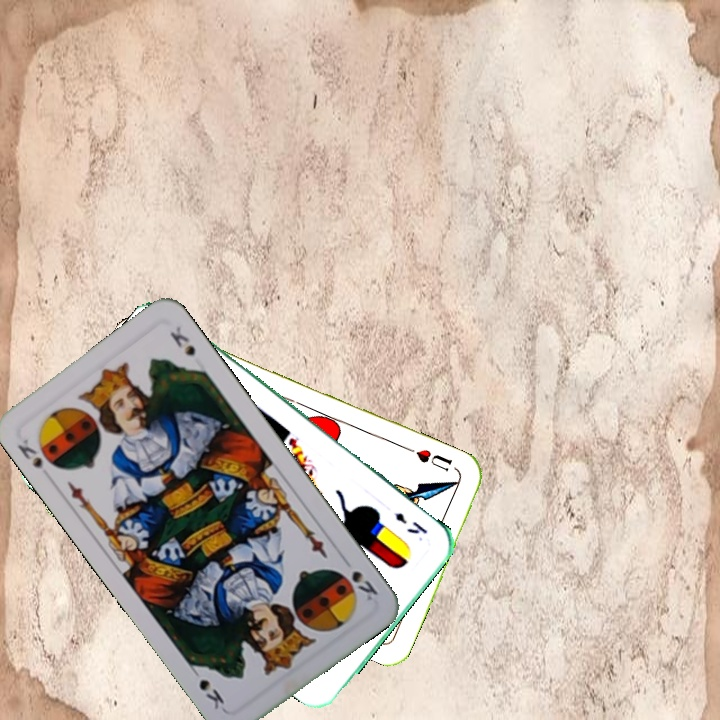EK: (391, 508, 431, 537)
HU: (412, 445, 455, 474)
SK: (338, 553, 381, 604), (13, 435, 46, 471)
